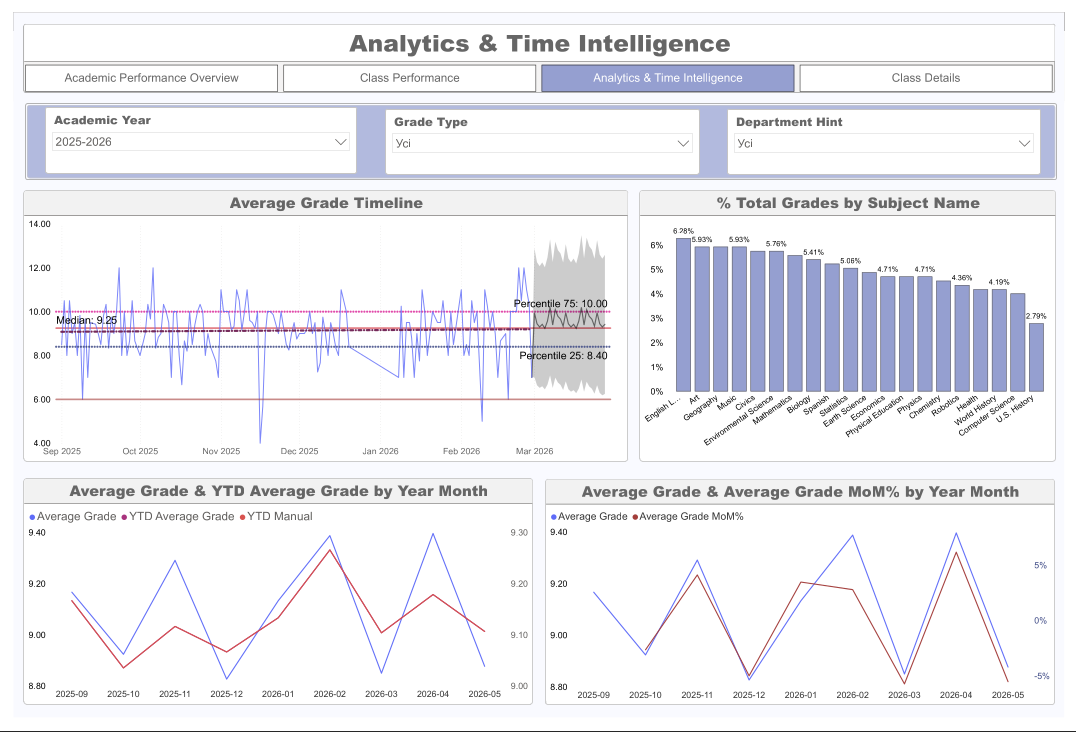

The page's visual inventory and layout, read from the dashboard file:
{"tool":"powerbi","page":{"name":"Analytics & Time Intelligence","canvas":[1910,1280],"ordinal":2},"visuals":[{"type":"lineChart","title":"Average Grade Timeline","fields":{"Category":["Calendar.Date"],"Y":["_Measures.Average Grade"]},"box":[19.2,323.1,1098.1,492.3],"z":0},{"type":"clusteredColumnChart","title":"% Total Grades by Subject Name","fields":{"Category":["subjects.subject_name"],"Y":["_Measures.Total Grades"]},"box":[1138.5,323.1,755.8,492.3],"z":1000},{"type":"lineChart","title":"Average Grade & YTD Average Grade by Year Month","fields":{"Category":["Calendar.Year_Month"],"Y":["_Measures.Average Grade"],"Y2":["_Measures.YTD Average Grade","_Measures.YTD Manual"]},"box":[19.2,846.2,925,410],"z":2000},{"type":"lineChart","title":"Average Grade & Average Grade MoM% by Year Month","fields":{"Category":["Calendar.Year_Month"],"Y":["_Measures.Average Grade"],"Y2":["_Measures.Average Grade MoM%"]},"box":[966.7,847.1,925.5,409.8],"z":3000},{"type":"pageNavigator","title":"Analytics & Time Intelligence","box":[19.2,21.2,1874,125],"z":4000},{"type":"shape","box":[21.6,164.7,1874.5,139.2],"z":5000},{"type":"slicer","fields":{"Values":["grades.grade_type"]},"box":[676.5,174.5,570.6,119.6],"z":6000},{"type":"slicer","fields":{"Values":["subjects.department_hint"]},"box":[1297.2,175,569.4,119.4],"z":7000},{"type":"slicer","fields":{"Values":["periods.academic_year"]},"box":[58.3,172.2,566.7,119.4],"z":8000}]}

Visuals, with their boxes in screenshot pixels (x1, y1, x2, y2), scaled from the page's 1910x1280 canvas onto the 1076x732 screenshot:
"Average Grade Timeline" lineChart: (11, 185, 629, 466)
"% Total Grades by Subject Name" clusteredColumnChart: (641, 185, 1067, 466)
"Average Grade & YTD Average Grade by Year Month" lineChart: (11, 484, 532, 718)
"Average Grade & Average Grade MoM% by Year Month" lineChart: (545, 484, 1066, 719)
"Analytics & Time Intelligence" pageNavigator: (11, 12, 1067, 84)
shape: (12, 94, 1068, 174)
slicer - grades.grade_type: (381, 100, 703, 168)
slicer - subjects.department_hint: (731, 100, 1052, 168)
slicer - periods.academic_year: (33, 98, 352, 167)
